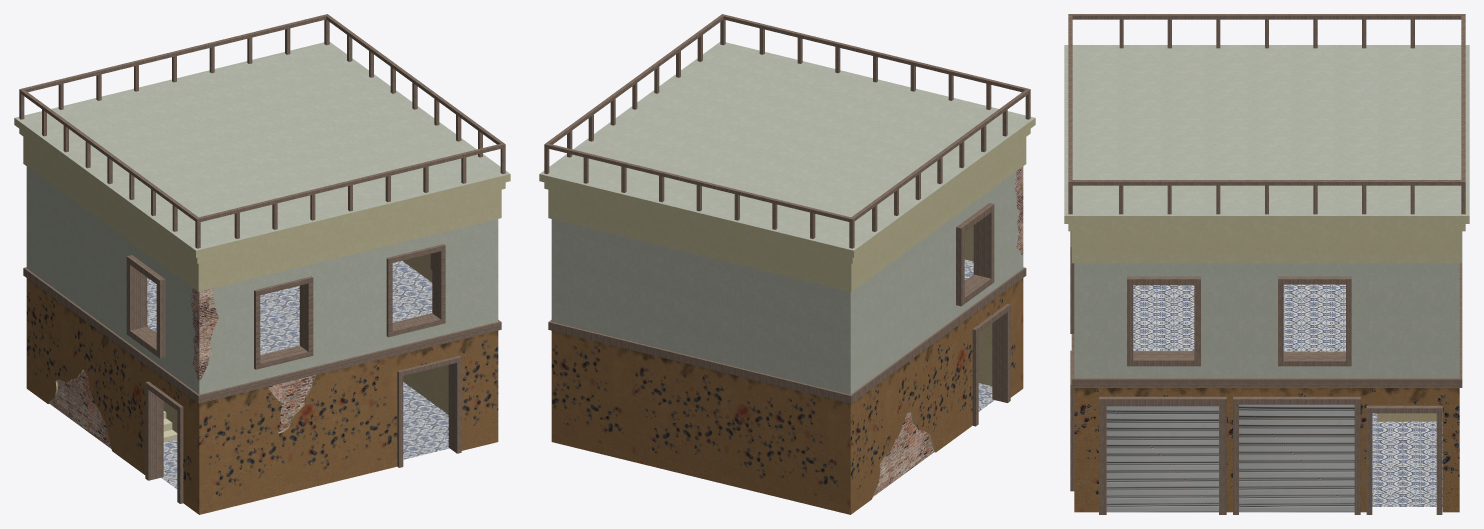
Rendered from casa_baixada1.glb.
3 renders of one model, left to right at view 1: azimuth 30°, elevation 25°; view 2: azimuth 150°, elevation 25°; view 3: azimuth 270°, elevation 25°, orthographic. The views are drawn at different scales.
Visible parts, largest first — view 1: Material2 (×6), Material3; view 2: Material2 (×6); view 3: Material2 (×6), Material3.
Boxes of the visible parts, box(x1,y1,x2,y2) form: Material2 (×6): box(14, 14, 510, 514); Material3: box(147, 261, 449, 488); Material2 (×6): box(539, 14, 1035, 514); Material2 (×6): box(1064, 14, 1469, 514); Material3: box(1133, 284, 1442, 506).
Size of the model in its own units: 471 by 428 by 471.
12 materials, 10 textured.
